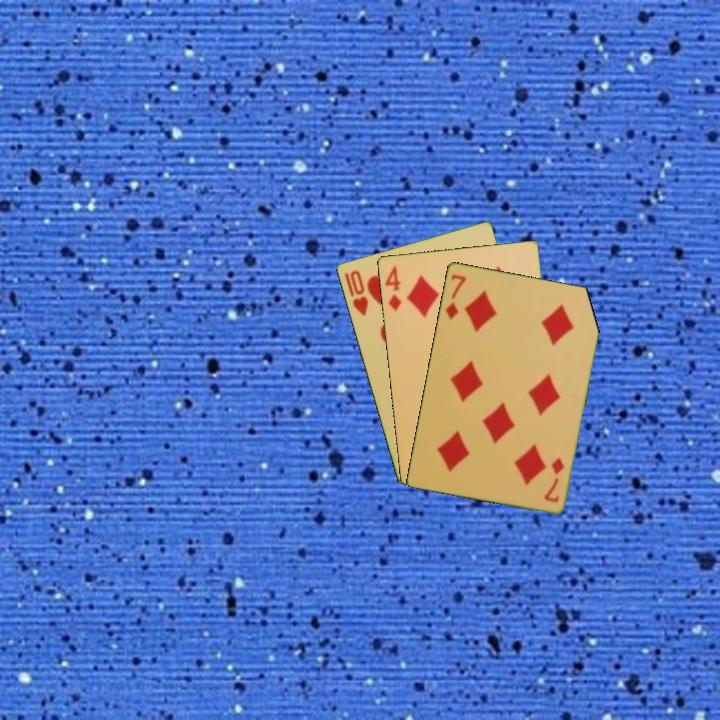10h: (341, 266, 371, 319)
4d: (381, 262, 404, 314)
7d: (442, 270, 469, 322), (540, 453, 567, 505)
